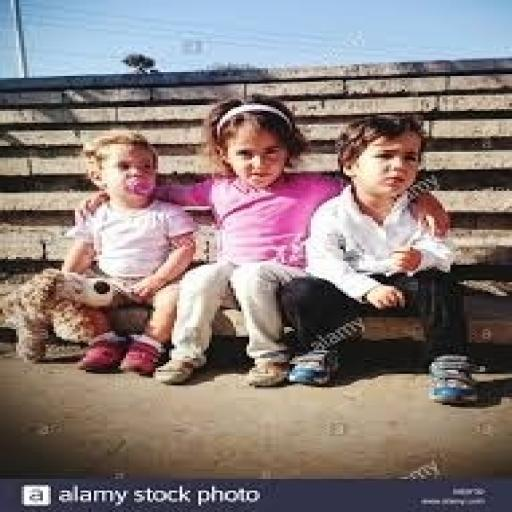sitting: (56, 93, 480, 401), (281, 111, 480, 403)
